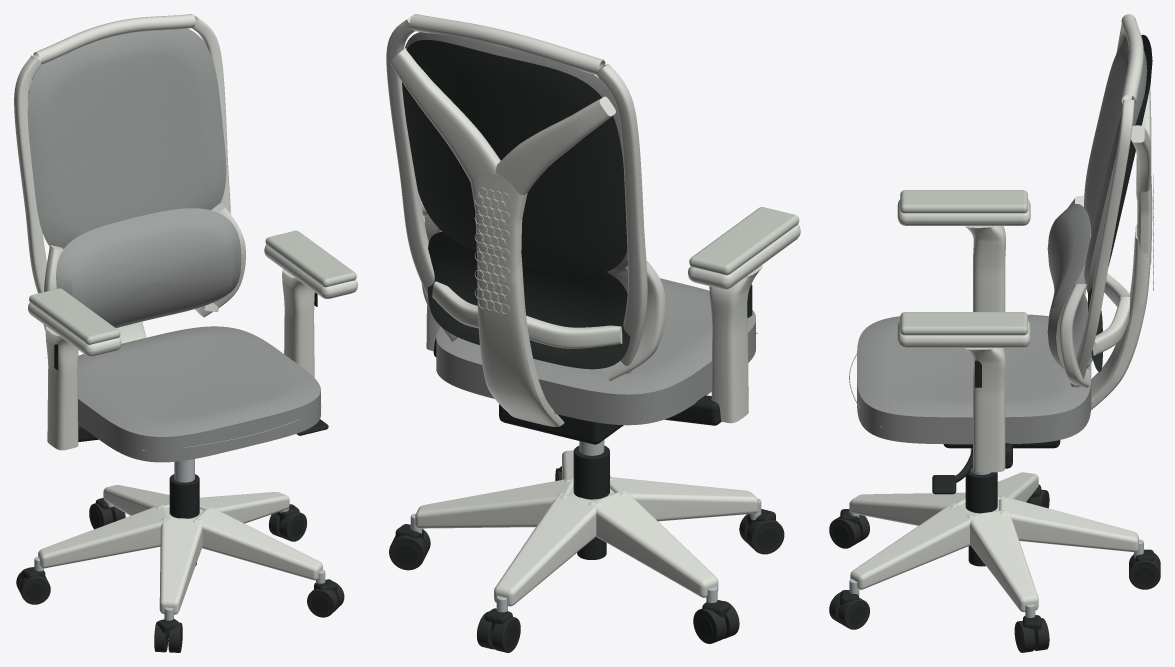
The model's file is chair.glb.
3 views of the same model, side by side, from view 1: azimuth 30°, elevation 25°; view 2: azimuth 150°, elevation 25°; view 3: azimuth 270°, elevation 25° (orthographic). The views are drawn at different scales.
Visible parts, largest first — view 1: UpperBackCushion, SeatCushion, LumbarCushion, StarSpoke_4, StarSpoke_2, ArmUpright_-1, BackOuterFrame_-1, StarSpoke_3, ArmUpright_1, ArmrestPad_1, ArmrestPad_-1, BackTopFrame (+10 smaller); view 2: RearTextile, SeatCushion, RearLumbarTextile, YSpineLower, StarSpoke_2, BackOuterFrame_-1, StarSpoke_1, ArmUpright_-1, StarSpoke_0, YSpineUpper, YBranch_1, BackOuterFrame_1 (+16 smaller); view 3: SeatCushion, UpperBackCushion, LumbarCushion, StarSpoke_4, StarSpoke_1, ArmUpright_1, StarSpoke_0, BackOuterFrame_1, YSpineLower, ArmrestPad_-1, ArmrestPad_1, ArmUpright_-1 (+15 smaller).
Part boxes in pixels (left/top/right/bottom): UpperBackCushion: left=27, top=28, right=226, bottom=248; SeatCushion: left=77, top=326, right=320, bottom=462; LumbarCushion: left=56, top=208, right=241, bottom=327; StarSpoke_4: left=193, top=506, right=322, bottom=580; StarSpoke_2: left=38, top=504, right=170, bottom=568; ArmUpright_-1: left=45, top=326, right=78, bottom=450; BackOuterFrame_-1: left=14, top=55, right=46, bottom=293; StarSpoke_3: left=159, top=517, right=202, bottom=614; ArmUpright_1: left=282, top=269, right=314, bottom=377; ArmrestPad_1: left=265, top=230, right=356, bottom=287; ArmrestPad_-1: left=29, top=288, right=120, bottom=344; BackTopFrame: left=33, top=14, right=195, bottom=64; RearTextile: left=402, top=40, right=627, bottom=275; SeatCushion: left=436, top=278, right=755, bottom=425; RearLumbarTextile: left=428, top=231, right=630, bottom=369; YSpineLower: left=477, top=245, right=564, bottom=426; StarSpoke_2: left=588, top=490, right=718, bottom=597; BackOuterFrame_-1: left=596, top=64, right=647, bottom=373; StarSpoke_1: left=494, top=493, right=601, bottom=606; ArmUpright_-1: left=709, top=265, right=762, bottom=423; StarSpoke_0: left=415, top=478, right=573, bottom=528; YSpineUpper: left=470, top=172, right=527, bottom=283; YBranch_1: left=389, top=48, right=500, bottom=182; BackOuterFrame_1: left=386, top=16, right=434, bottom=296; SeatCushion: left=857, top=314, right=1091, bottom=444; UpperBackCushion: left=1084, top=36, right=1147, bottom=292; LumbarCushion: left=1047, top=204, right=1092, bottom=369; StarSpoke_4: left=850, top=503, right=978, bottom=589; StarSpoke_1: left=999, top=496, right=1138, bottom=552; ArmUpright_1: left=965, top=348, right=1005, bottom=472; StarSpoke_0: left=967, top=510, right=1038, bottom=611; BackOuterFrame_1: left=1070, top=100, right=1134, bottom=387; YSpineLower: left=1091, top=225, right=1152, bottom=409; ArmrestPad_-1: left=900, top=190, right=1027, bottom=213; ArmrestPad_1: left=900, top=312, right=1027, bottom=335; ArmUpright_-1: left=965, top=226, right=1005, bottom=311.
Size of the model in its own units: 0.6984 by 1.19 by 0.6645.
8 materials, 1 textured.
